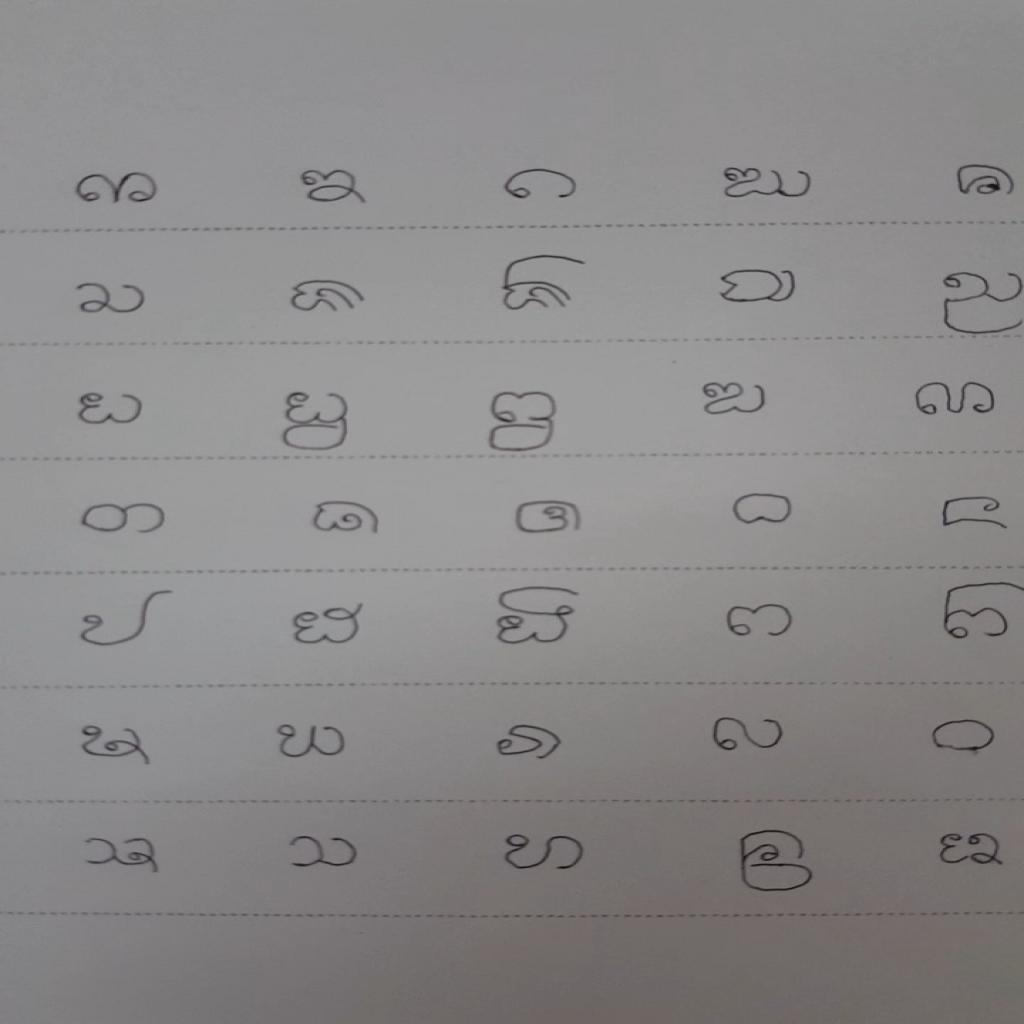LN001: (69, 169, 168, 211)
LN002: (291, 163, 372, 209)
LN003: (499, 164, 584, 205)
LN004: (716, 160, 819, 204)
LN005: (945, 161, 1021, 202)
LN007: (66, 275, 153, 319)
LN008: (284, 273, 371, 321)
LN009: (494, 254, 592, 318)
LN010: (716, 265, 802, 308)
LN013: (73, 387, 148, 429)
LN014: (277, 386, 354, 453)
LN015: (485, 386, 561, 453)
LN016: (695, 377, 772, 418)
LN017: (912, 377, 1002, 419)
LN019: (78, 499, 172, 539)
LN020: (307, 496, 384, 541)
LN021: (510, 496, 589, 538)
LN022: (728, 489, 799, 530)
LN023: (936, 489, 1011, 535)
LN025: (73, 586, 178, 651)
LN026: (284, 599, 371, 649)
LN027: (485, 584, 583, 653)
LN028: (722, 601, 798, 640)
LN031: (74, 719, 157, 771)
LN032: (270, 719, 353, 763)
LN033: (491, 719, 570, 765)
LN034: (707, 715, 789, 756)
LN035: (926, 716, 999, 757)
LN037: (76, 831, 166, 879)
LN038: (284, 830, 365, 876)
LN039: (495, 830, 592, 877)
LN040: (732, 823, 821, 897)
LN041: (933, 827, 1010, 872)
